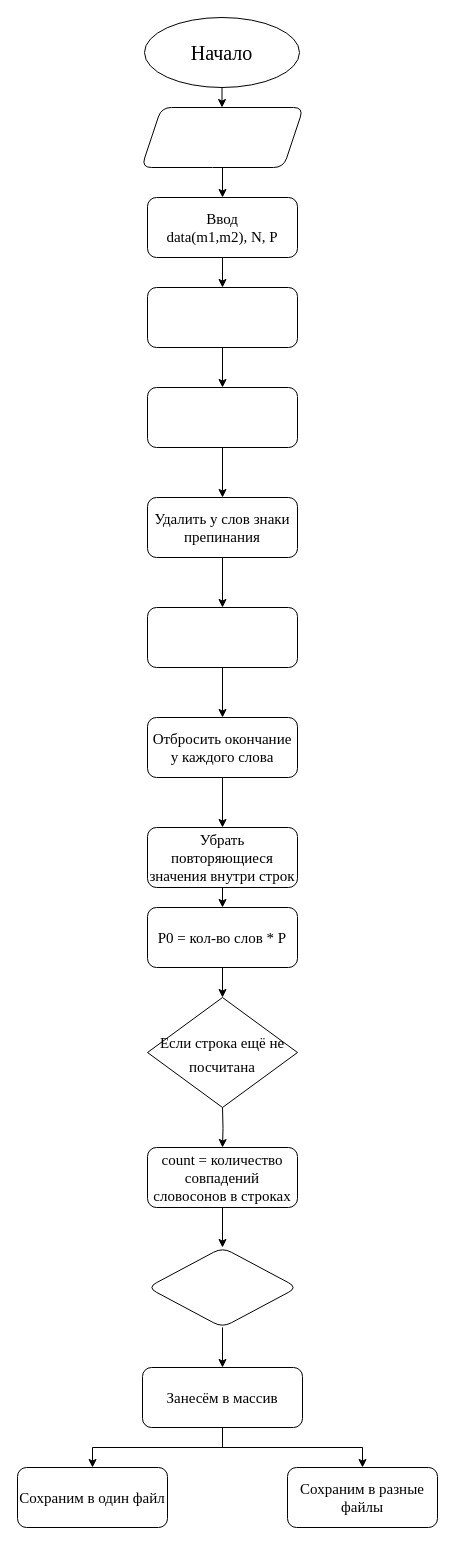
This 455x1545 diagram has some shape labels left out. The shapes that lost their labels are listed below. From the top down, each one's centre as x and y in pixels, then its label:
At [222,137]: "Загрузка файла".
At [222,317]: "Отбор строк по N".
At [222,417]: "Разбить отобранные строки на слова".
At [222,637]: "Убрать служебные слова".
At [222,1287]: "Если count = P0".
